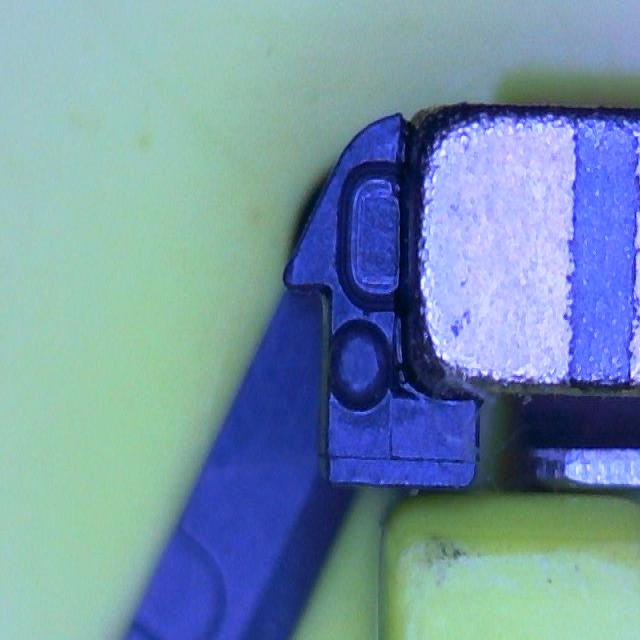lacking: (340, 161, 405, 314)
